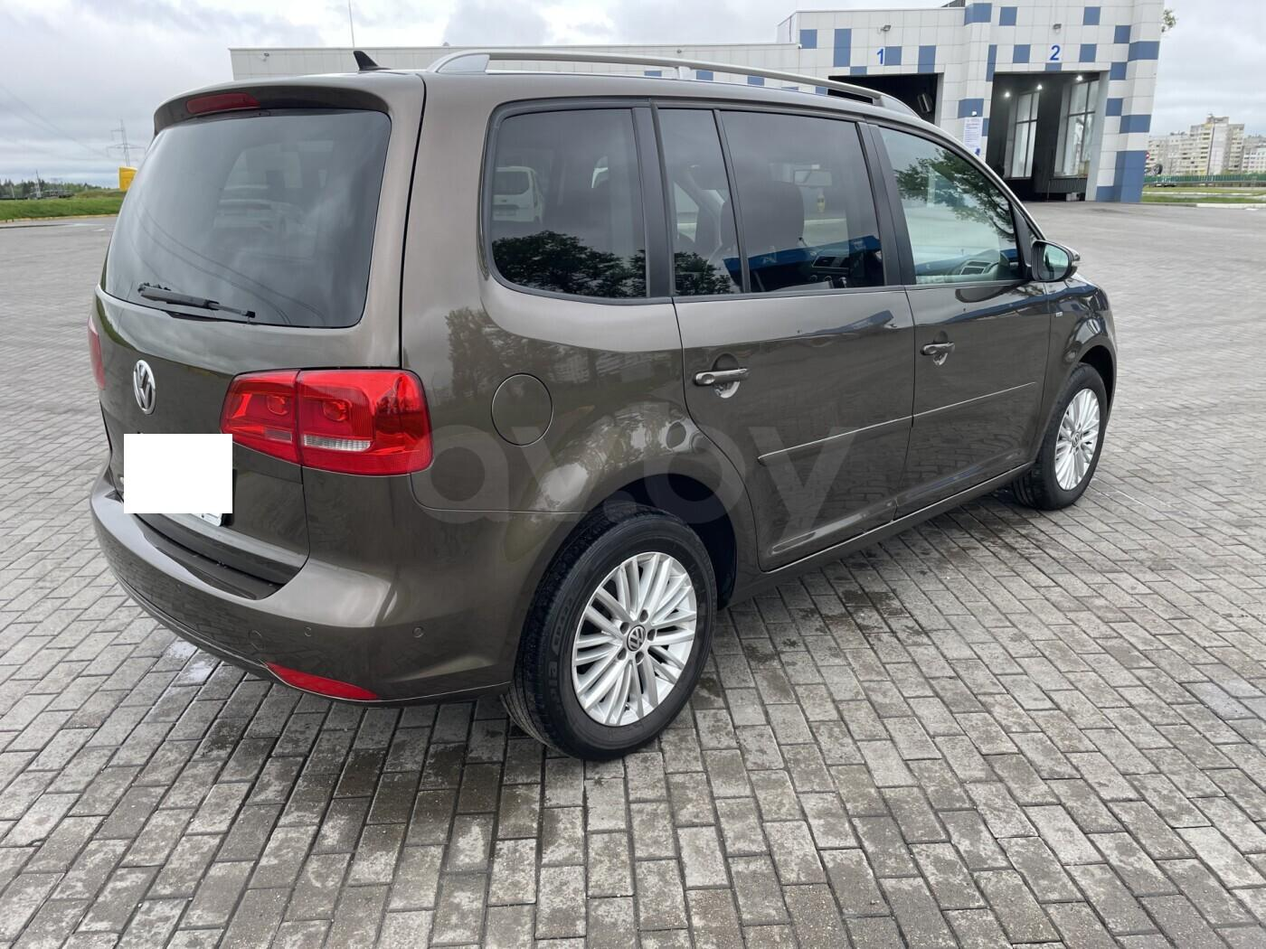Touran_2010-2015: (80, 59, 1130, 771)
